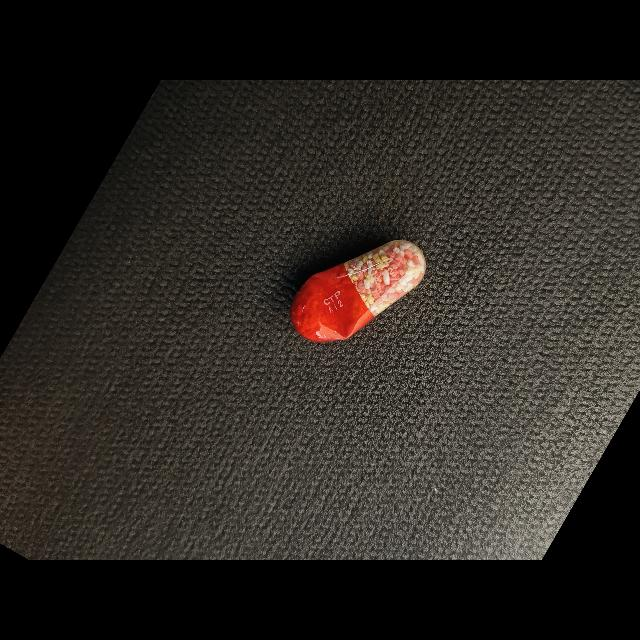Defective Capsule: (291, 240, 426, 342)
